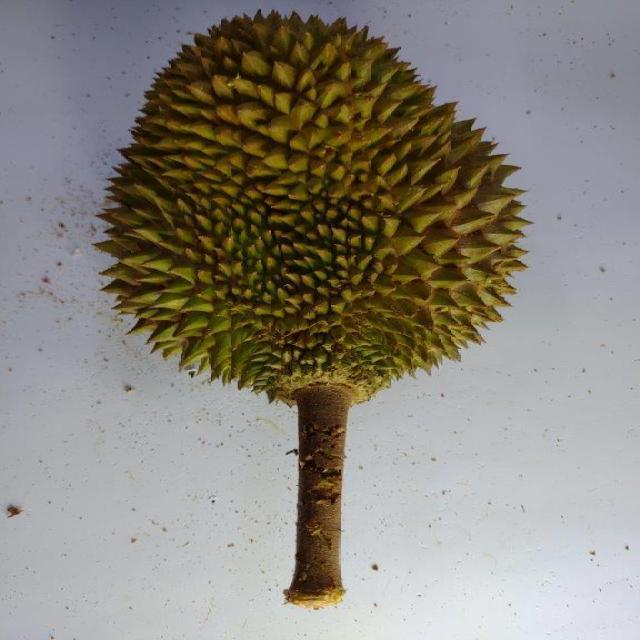mature: (100, 9, 528, 397)
